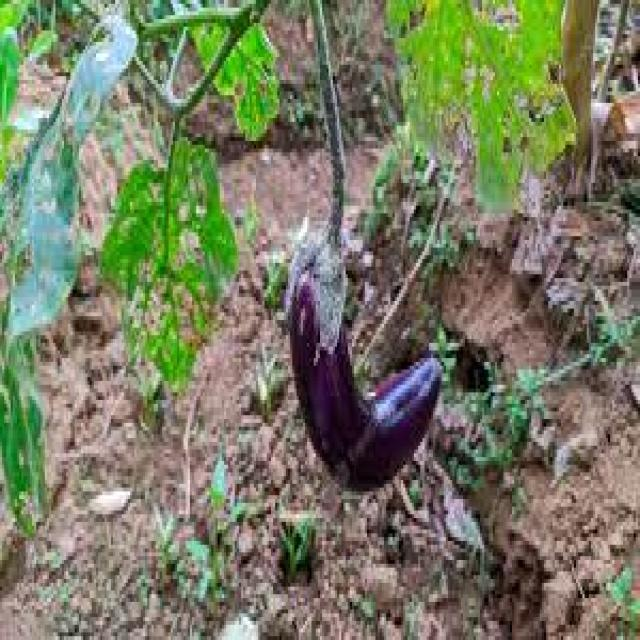Eggplant: (286, 153, 441, 499)
